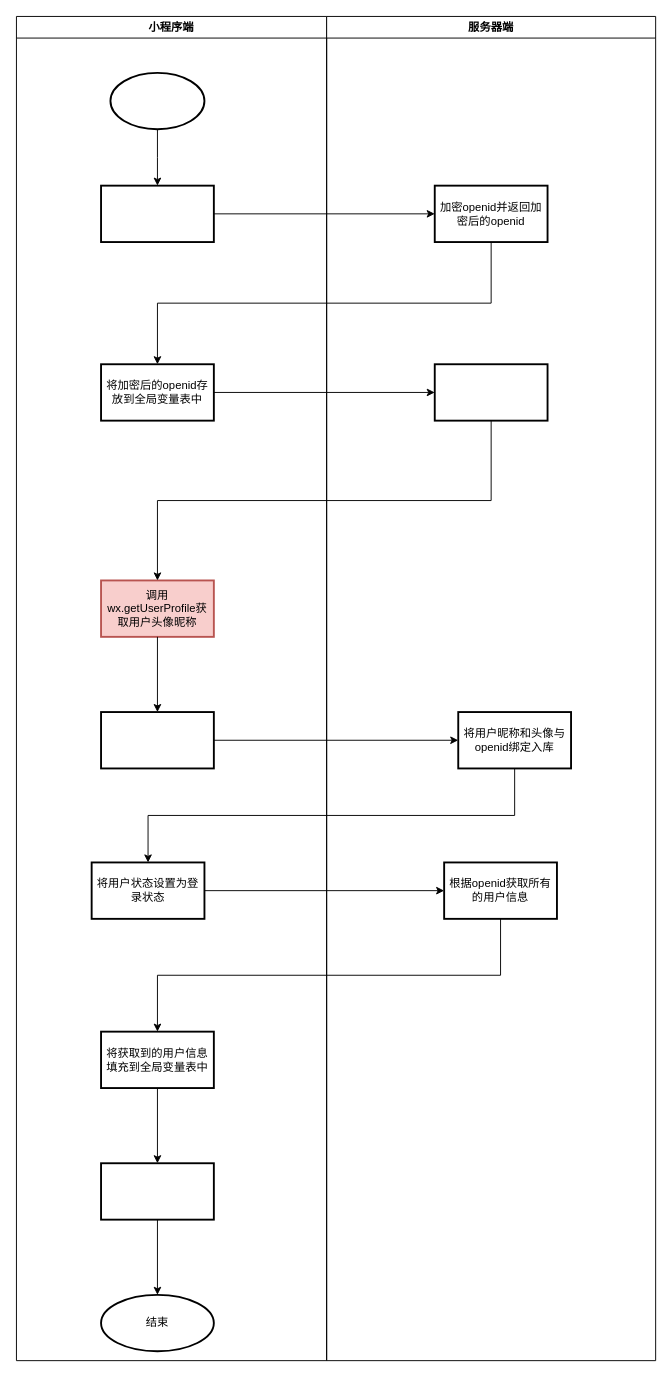
The diagram is 672 pixels wide and 1377 high, and some of its shapes have lost their labels. The shapes that lost their labels are listed below. From the top down, each one's centre as x and y in pixels, then its label:
(157,100): 开始
(157,213): 调用wx.login获取用户登录凭证（目前只用了openid）
(490,392): 将加密后的openid入库
(157,740): 将用户昵称和头像存放到全局变量表中
(157,1191): 跳转到首页
